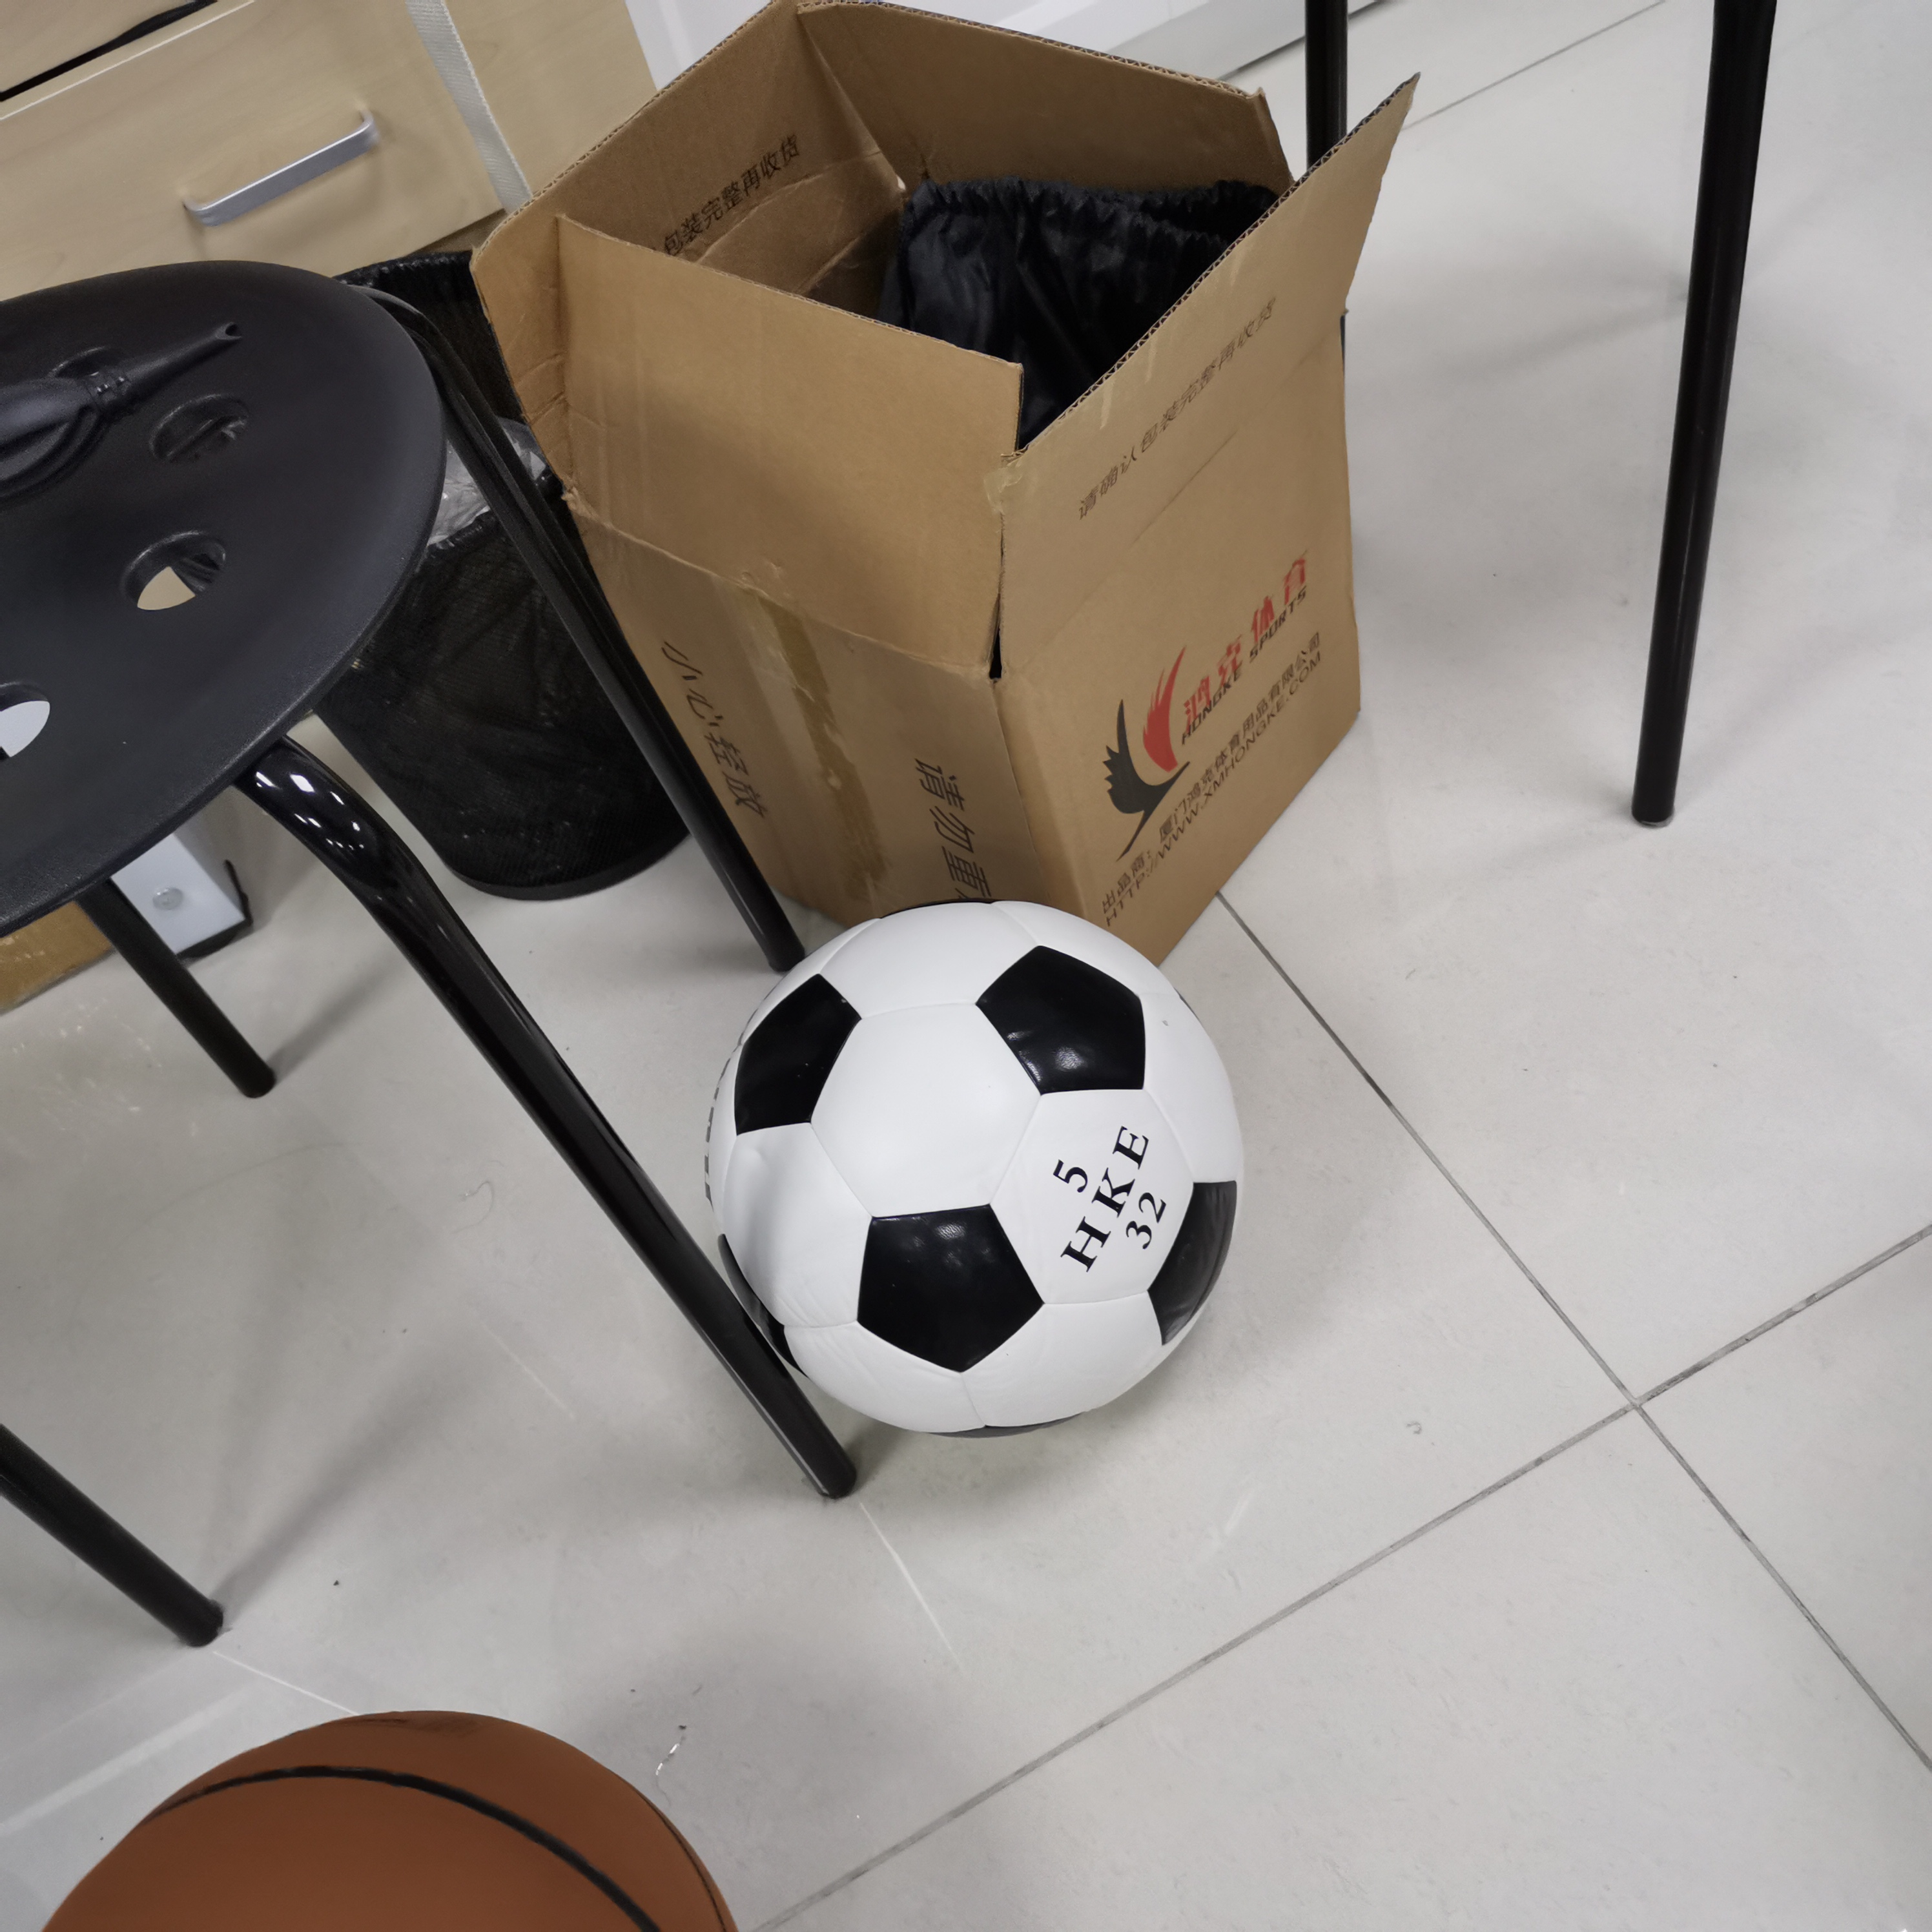football: (704, 901, 1249, 1442)
